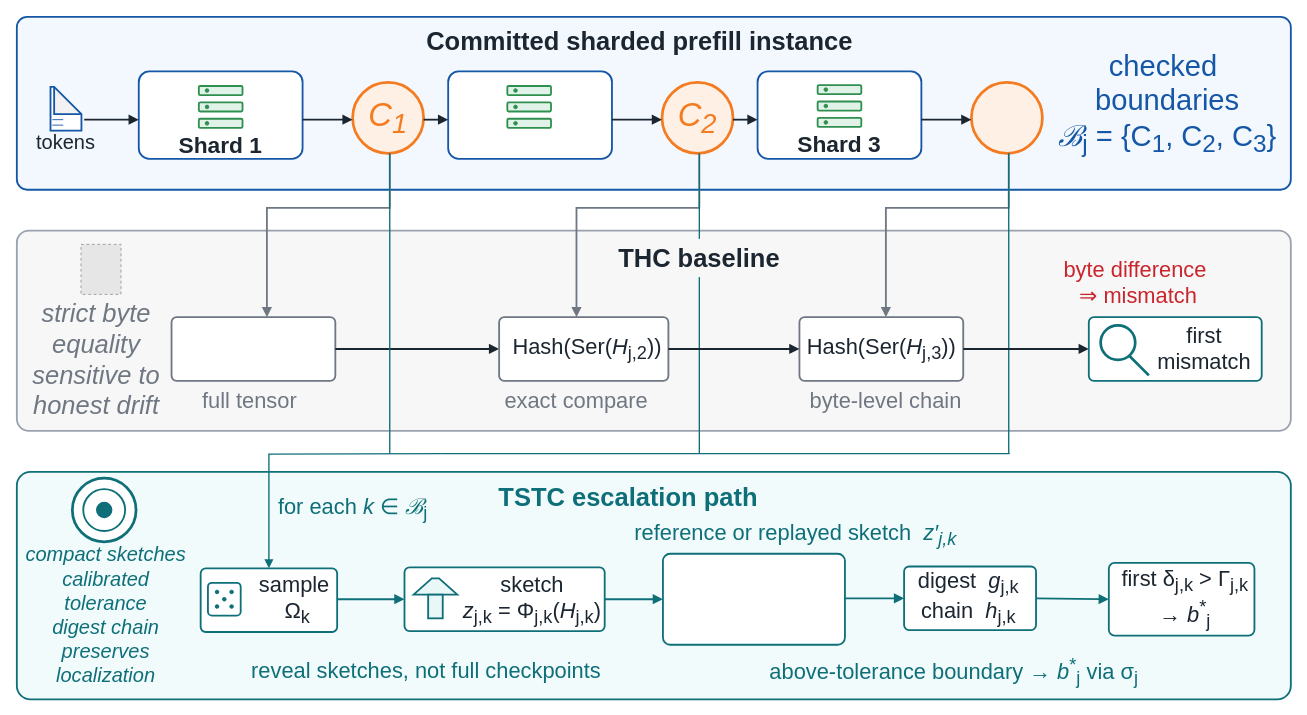
Image size: 1307x715. Some labels were removed from this diagram. Grey dashed boxes stand in for pictures. The shapes that lost their labels are listed below. From the top down, each one's centre as x and y in pixels, then its label:
At (x=529, y=114): "Shard 2".
At (x=1006, y=117): "C 3".
At (x=253, y=348): "Hash(Ser( H j,1 ))".
At (x=753, y=598): "compare gap δ j,k = μ( z j,k , z ′ j,k ) δ j,k ≤ Γ j,k".
